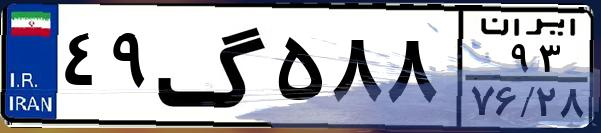2: (535, 70, 560, 125)
3: (537, 27, 568, 80)
4: (57, 26, 110, 100)
5: (270, 28, 330, 110)
6: (495, 70, 520, 125)
7: (470, 70, 495, 125)
8: (385, 28, 445, 110), (330, 28, 385, 110), (560, 70, 590, 125)
9: (110, 28, 156, 98), (508, 27, 537, 80)
گ: (156, 12, 270, 120)
